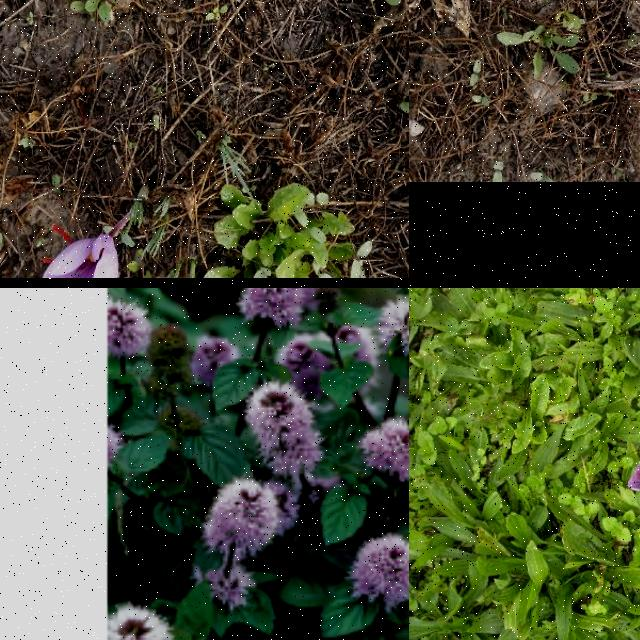flower: (41, 224, 119, 278), (628, 460, 640, 494)
